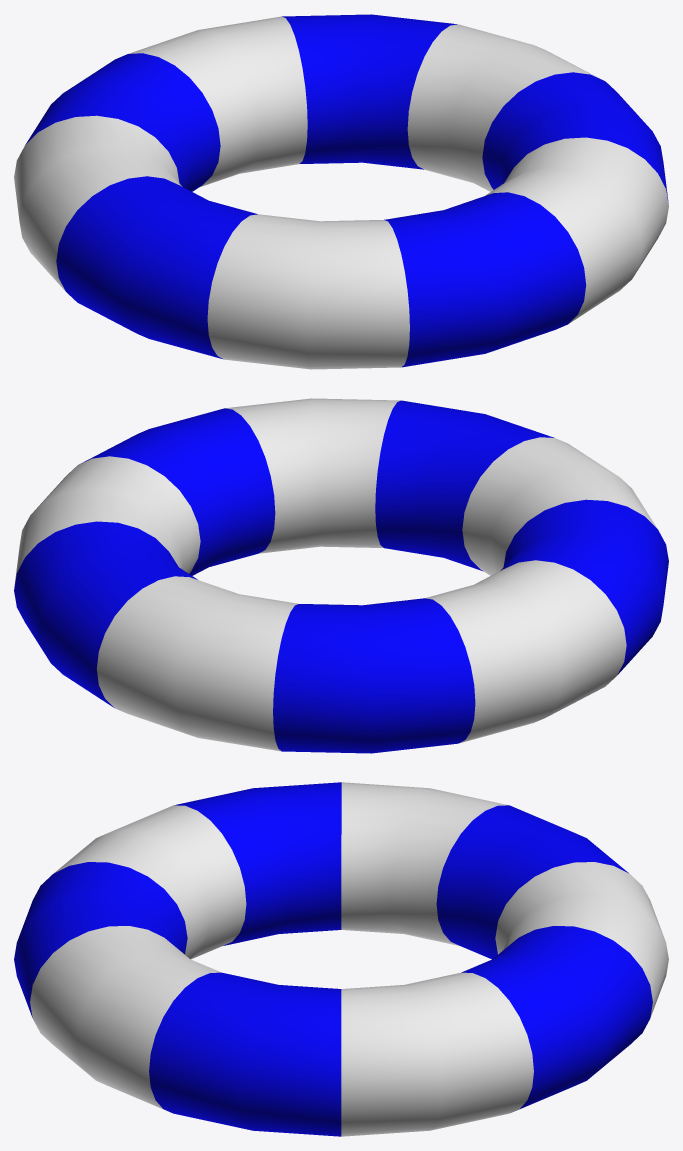
File: Bouée_B.fbx
The picture shows the model from 3 angles, top to bottom: view 1: azimuth 30°, elevation 25°; view 2: azimuth 150°, elevation 25°; view 3: azimuth 270°, elevation 25°; orthographic projection.
Visible parts, largest first — view 1: Bouée_B; view 2: Bouée_B; view 3: Bouée_B.
Part boxes in pixels (left/top/right/bottom): Bouée_B: left=14, top=14, right=668, bottom=369; Bouée_B: left=14, top=398, right=668, bottom=753; Bouée_B: left=14, top=782, right=668, bottom=1136.
Size of the model in its own units: 166 by 36.36 by 166.
